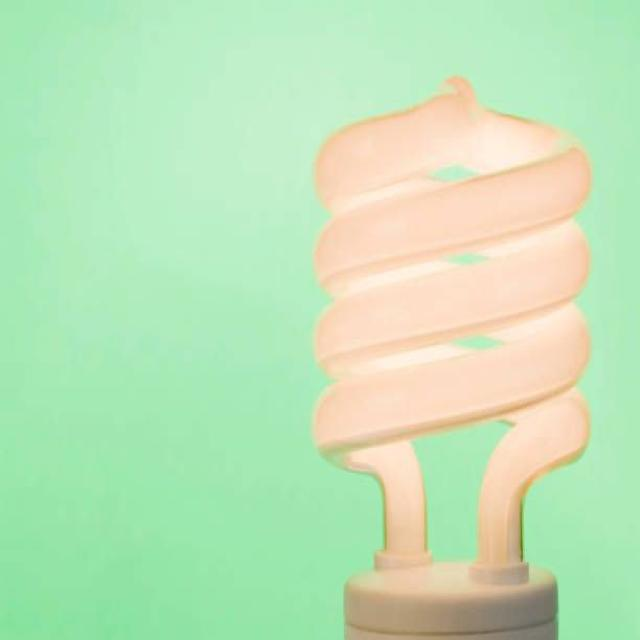electronic: (309, 74, 593, 638)
